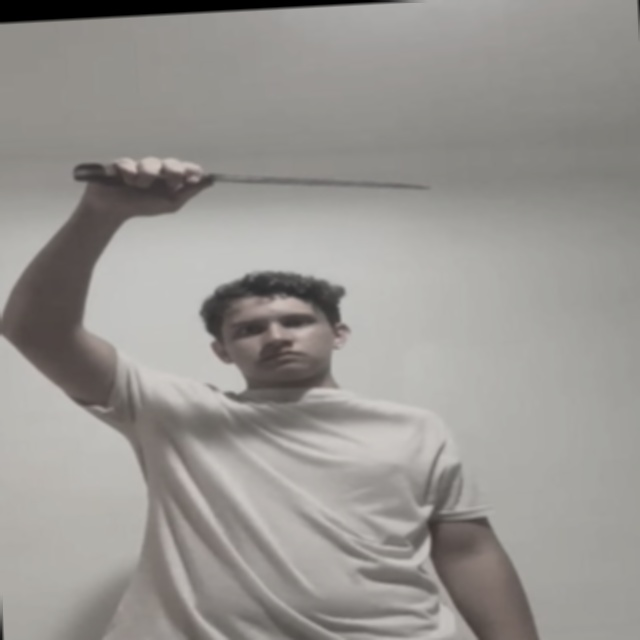Sharp-Object: (200, 160, 430, 202)
